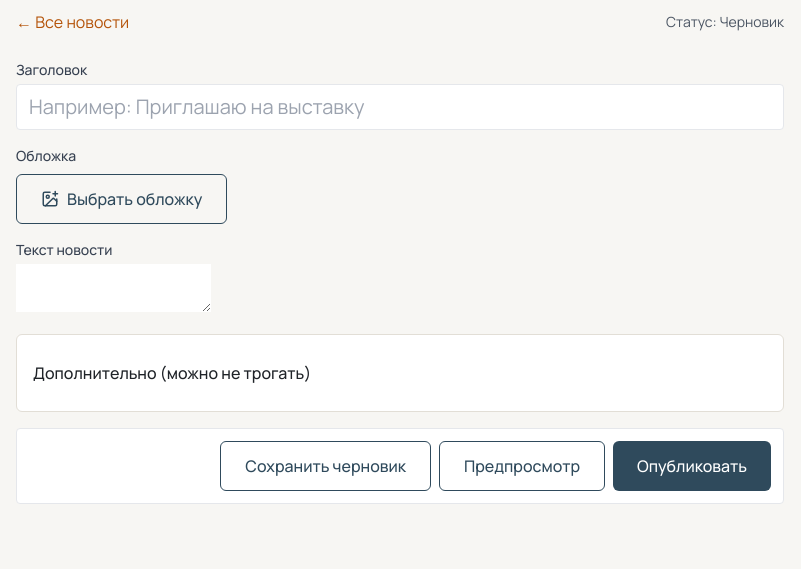
PostEditor › requires title and text before saving
What coordinates should you click on to do the following:
click the button "Сохранить черновик"
I would click on:
 (326, 466)
Its box is [220,441,431,491].
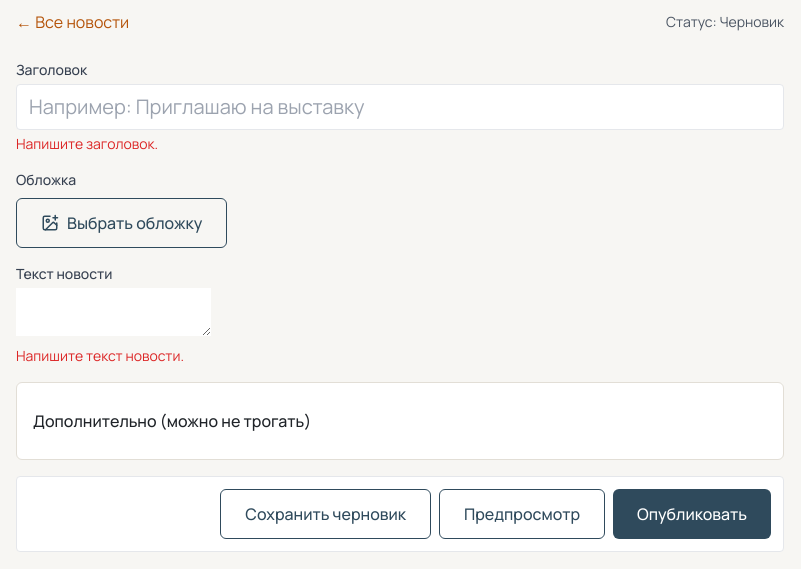
Expected: the text "Напишите заголовок." is shown, [16,134,158,153]
Expected: the text "Напишите текст новости." is shown, [16,346,184,365]
